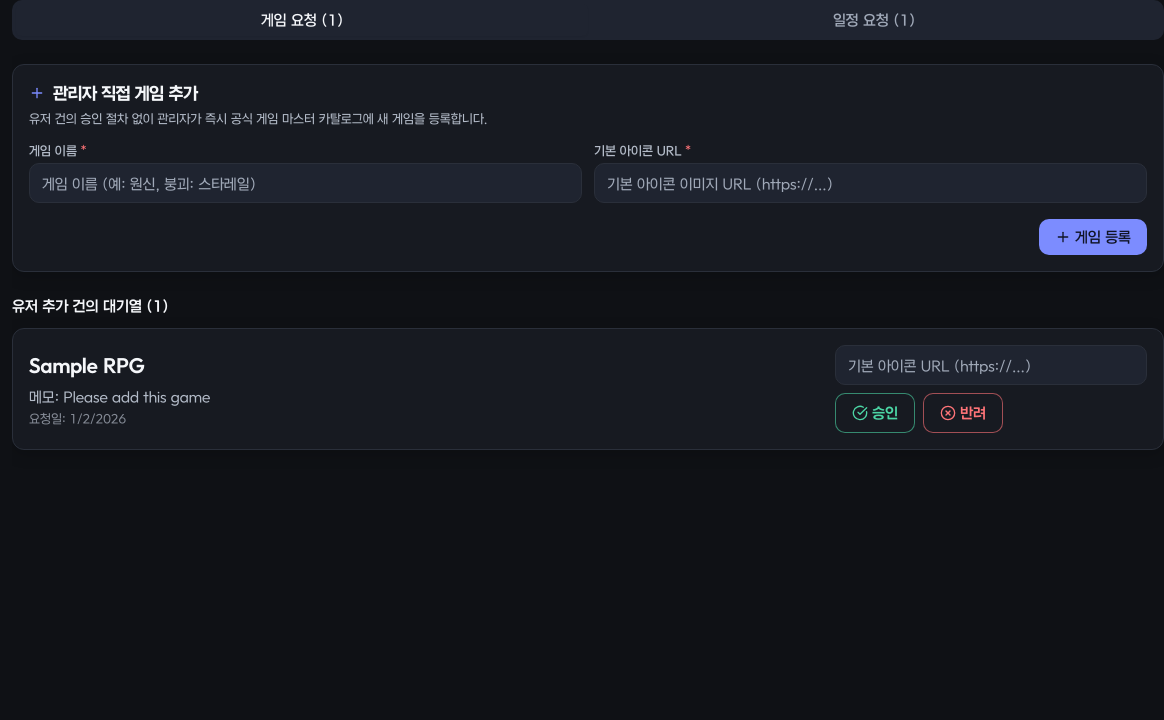
Test: AdminRequestsPage › rejects a game request via RPC and removes it from the list
The image size is (1164, 720).
Step 1. Click the button "반려" → coordinates (963, 413), box [923,393,1003,433]
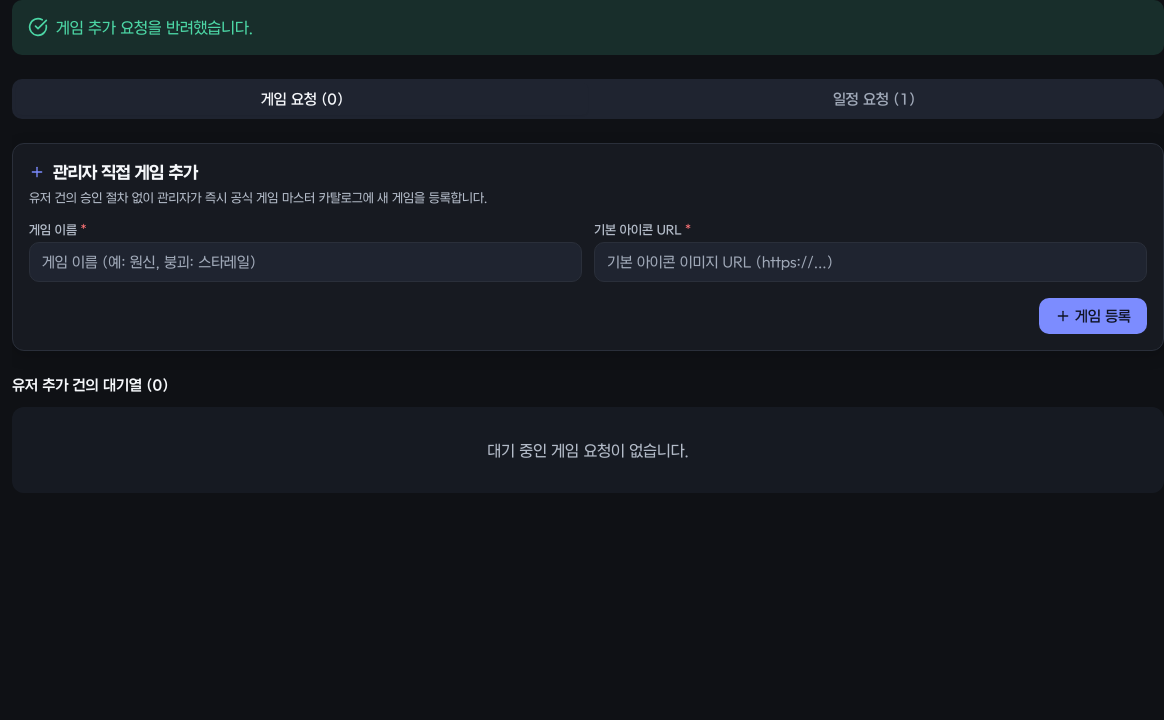
Result: the text "게임 추가 요청을 반려했습니다." is shown at [12,0,1163,54]
Result: the text "Sample RPG" is gone
